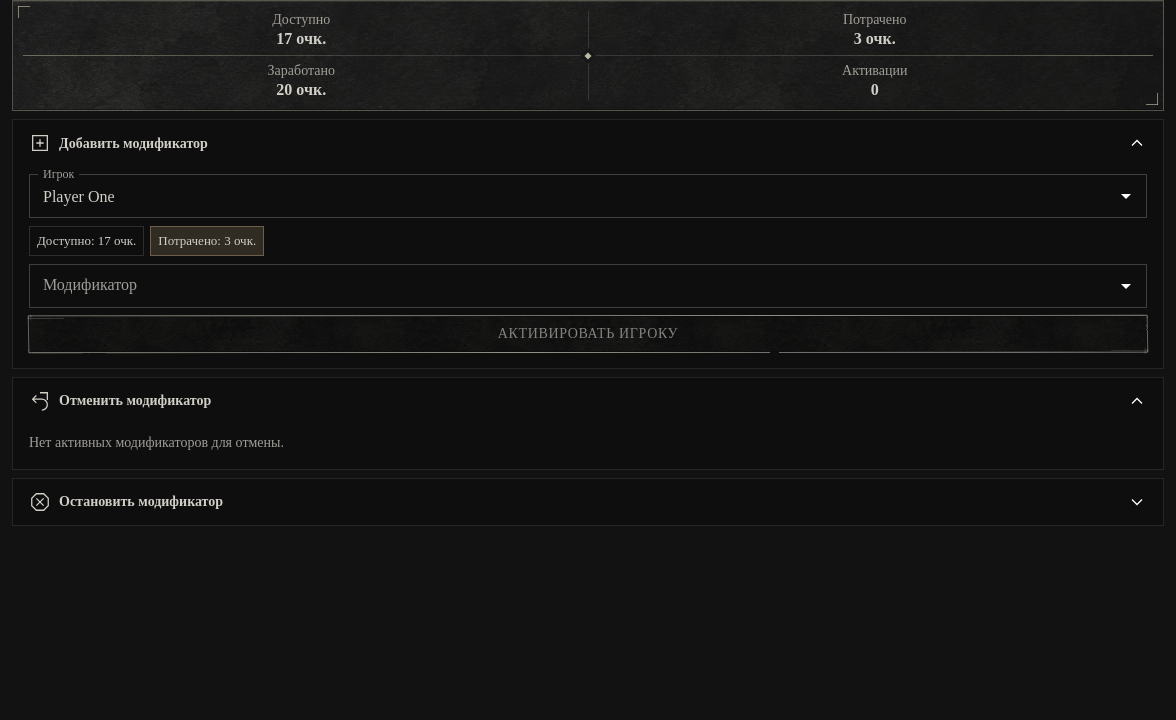
Test: AdminModifierPanel quick wins › shows only the modifier name and price in the modifier dropdown
The width and height of the screenshot is (1176, 720).
Expected: the dropdown labelled "Игрок" holds "Player One", [35,182,1082,210]
Press the mouse on the dropdown labelled "Модификатор": (572, 286) [35,272,1108,300]
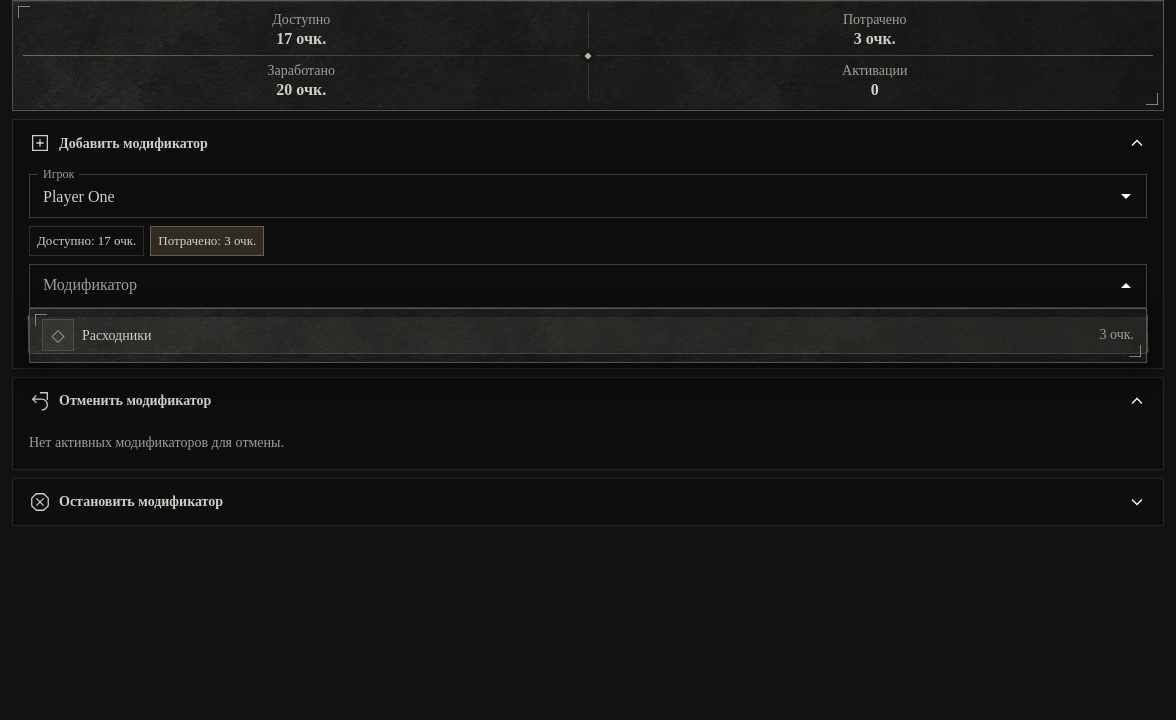
Now the option shows "Расходники", box [30,317,1146,354]
Now the option shows "3 очк.", box [30,317,1146,354]
